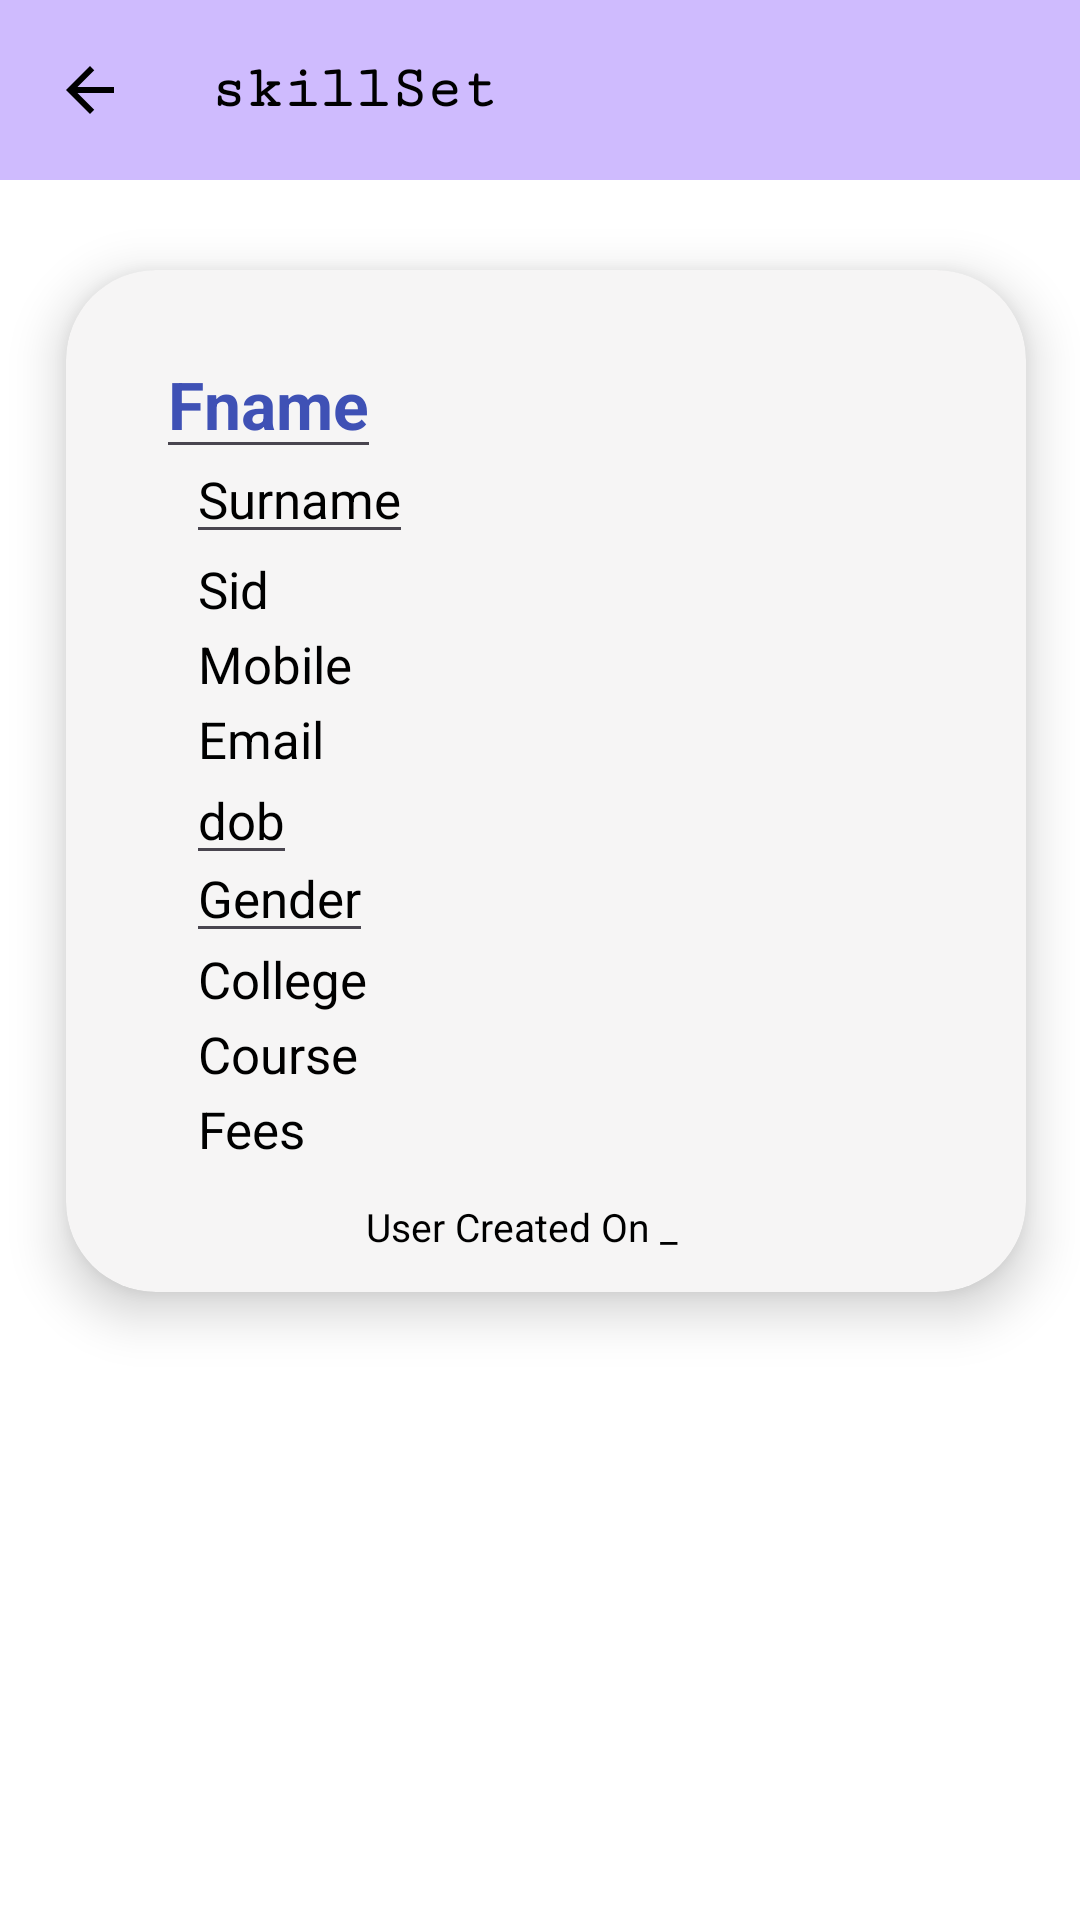

Point at icon controls on the screen. Image size 1080w x 1920h, points as (x,y).
file back: (90,90)
